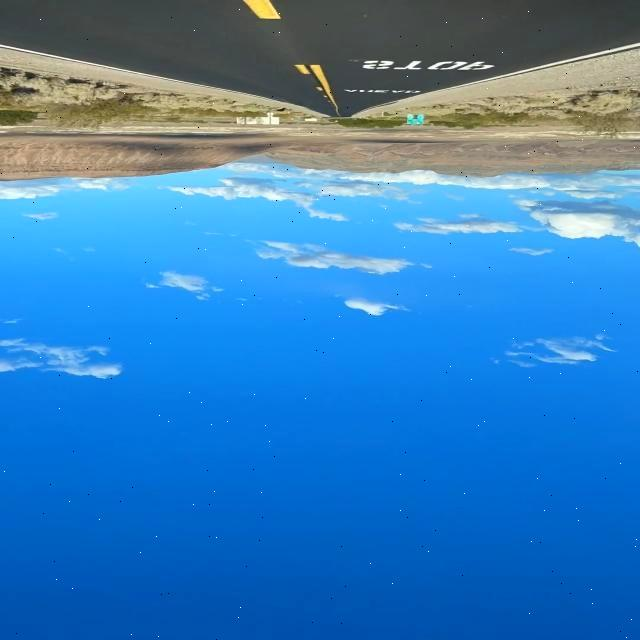lane: (310, 64, 338, 114), (242, 1, 281, 19)
road: (0, 1, 639, 117)
